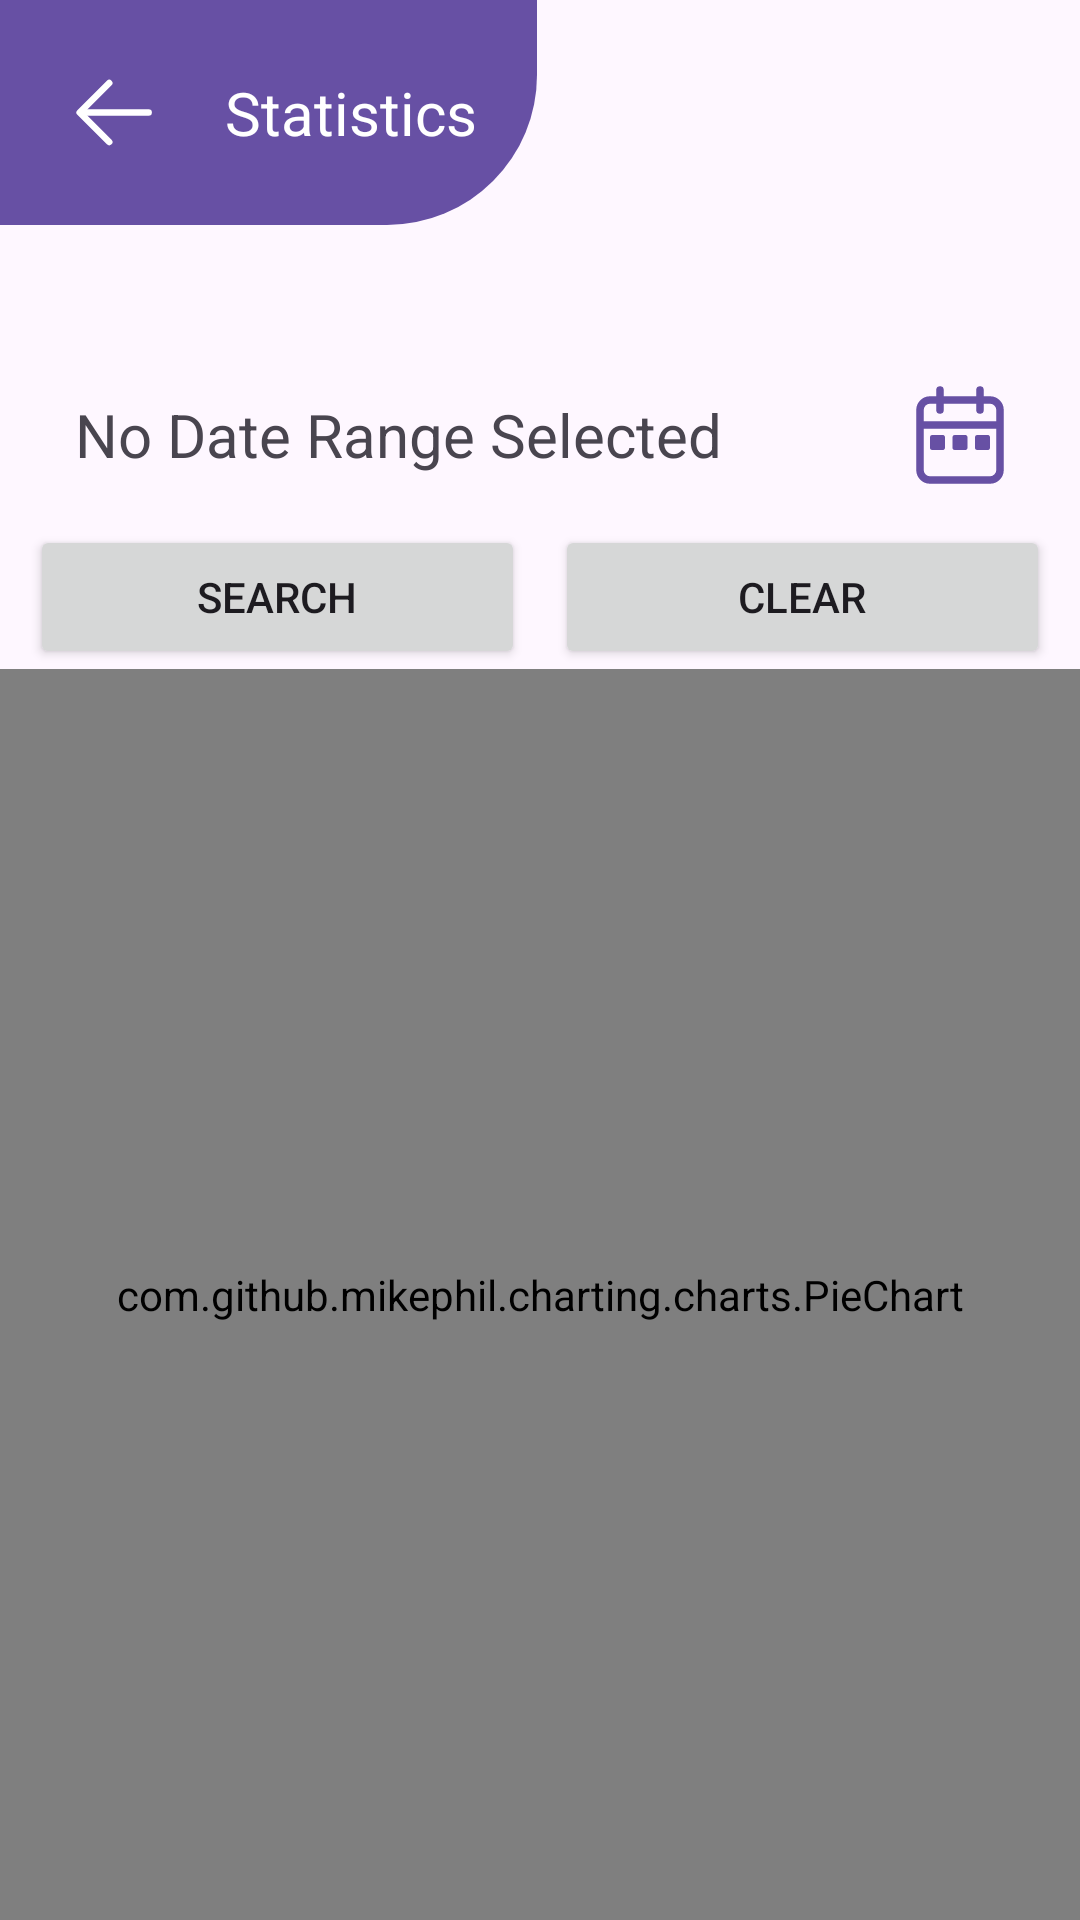

Screen size 1080w x 1920h. Icon name, then its box in pixels as (x1, y1, x2, y2):
back: (76, 79, 152, 146)
